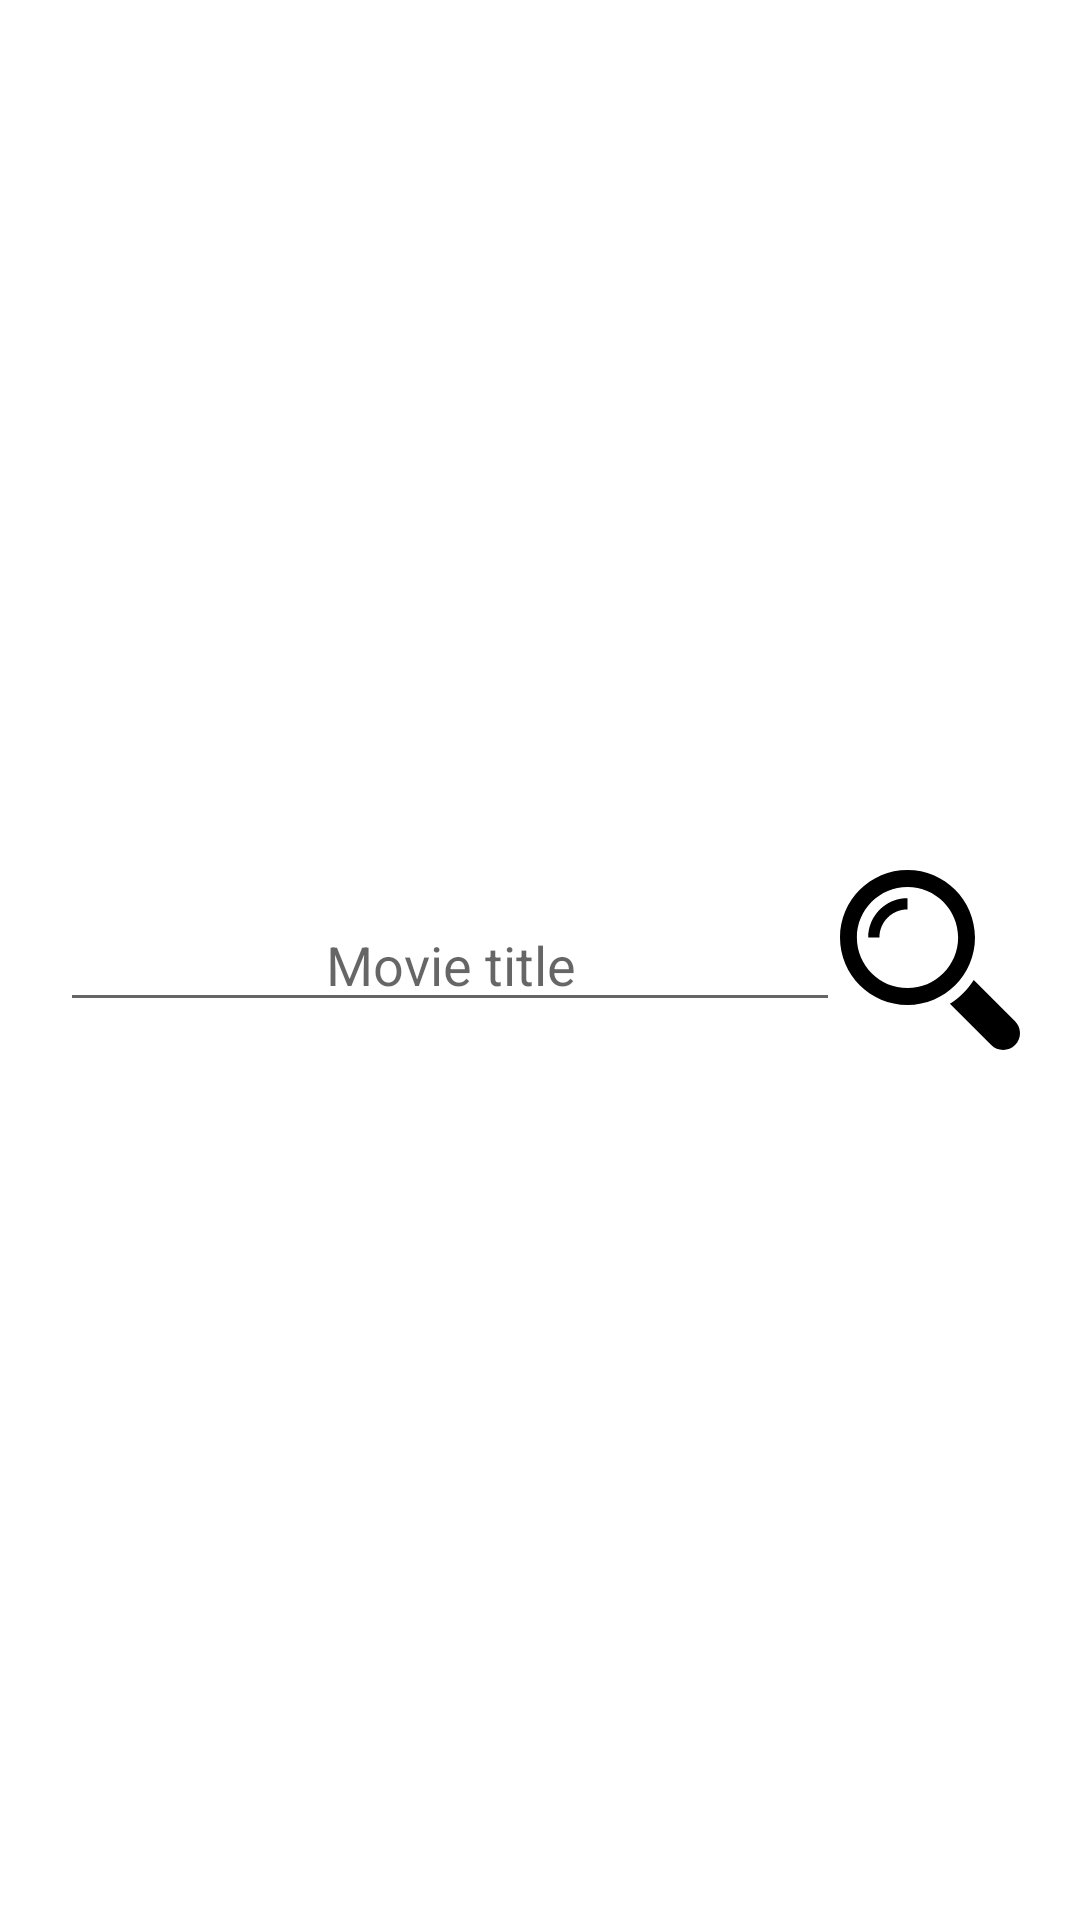

Where icons sit on this 1080*1920 app screen, as {"x1": x1, "y1": y1, "x2": x2, "y2": y2}:
Search icon: {"x1": 840, "y1": 870, "x2": 1020, "y2": 1050}
